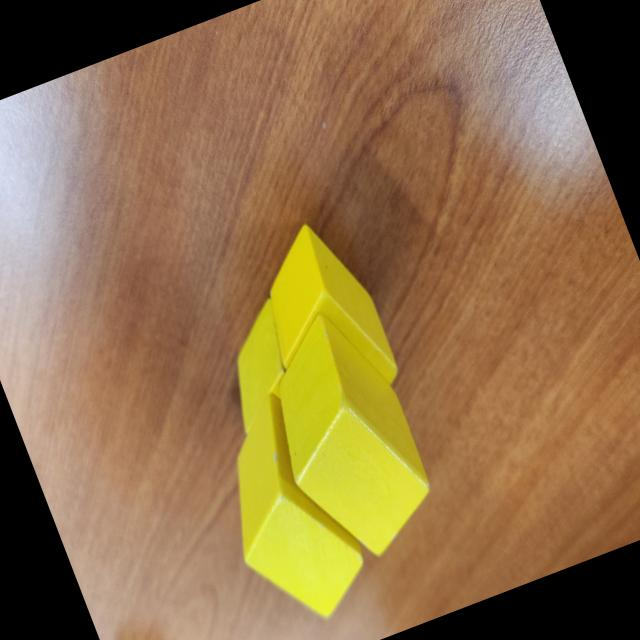yellow: (241, 296, 450, 576), (191, 381, 383, 640), (238, 210, 406, 420), (203, 298, 314, 437)
